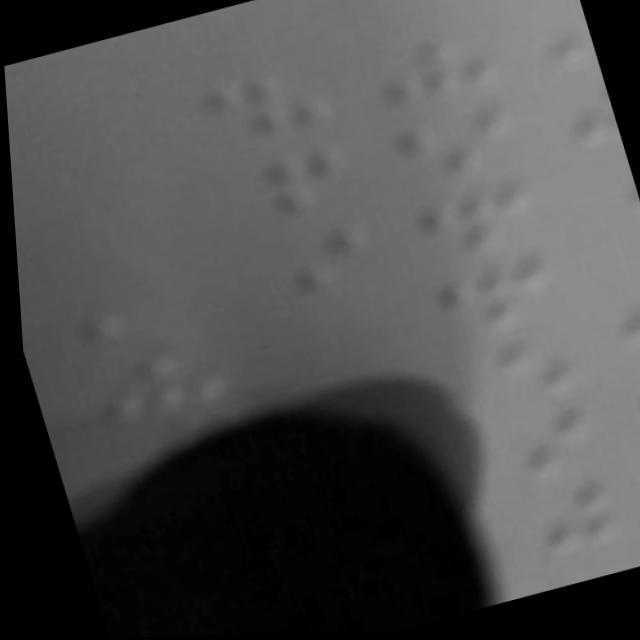braiile: (73, 331, 249, 445), (209, 220, 378, 332), (186, 136, 357, 243), (167, 64, 338, 169), (407, 249, 568, 359), (388, 174, 548, 282), (465, 480, 627, 586), (374, 95, 531, 202), (441, 408, 604, 510), (349, 24, 509, 127), (429, 328, 584, 427)
